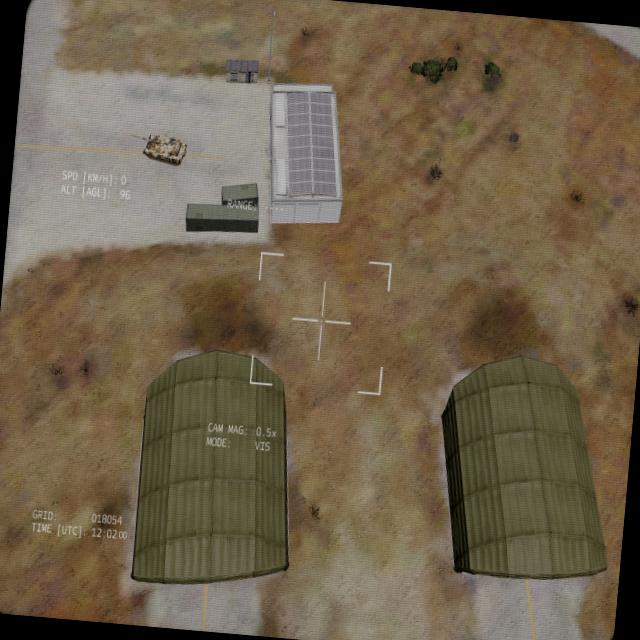tank: (127, 130, 188, 165)
